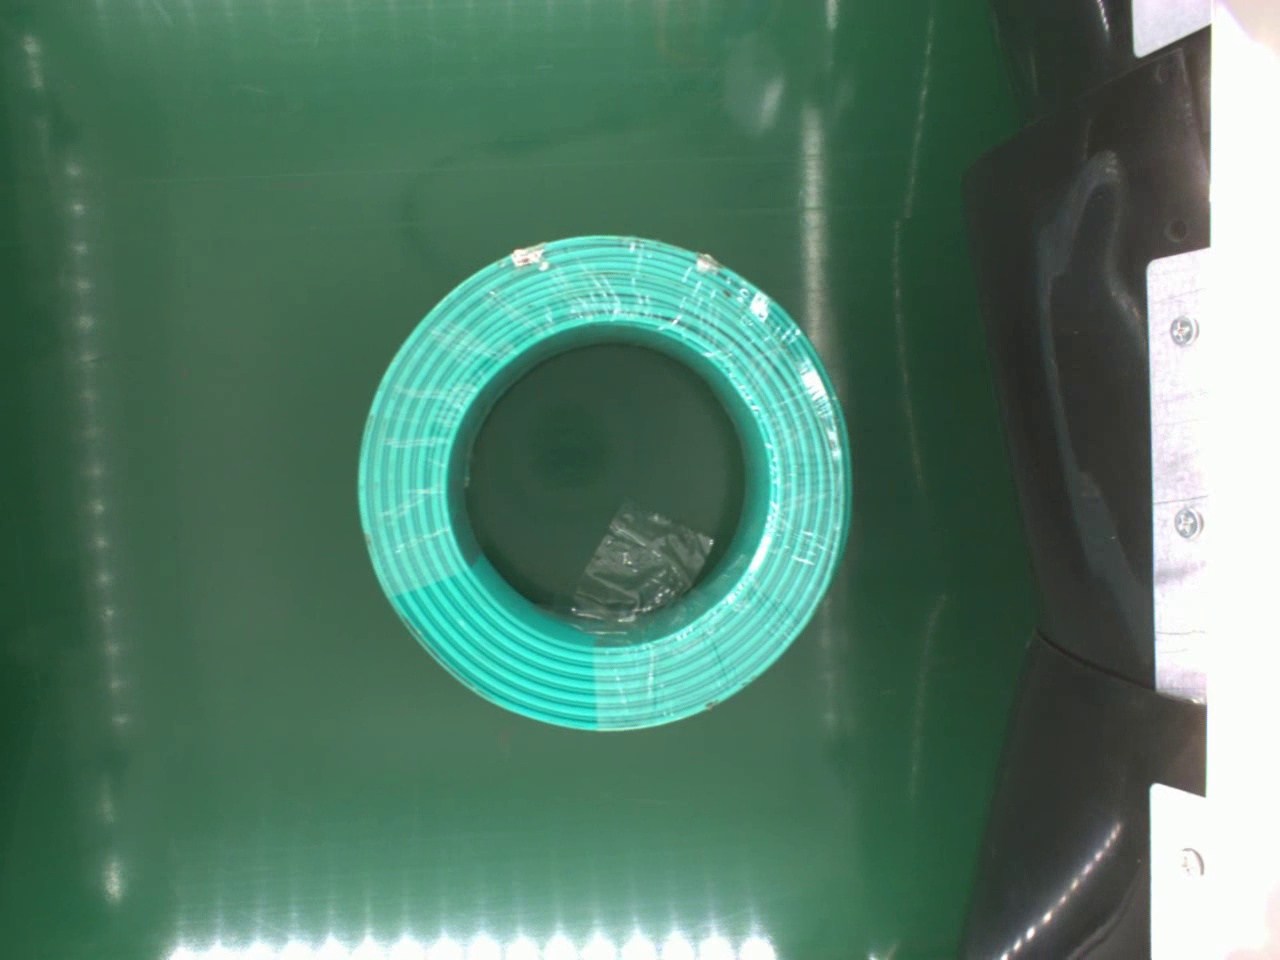green: (352, 222, 857, 731)
